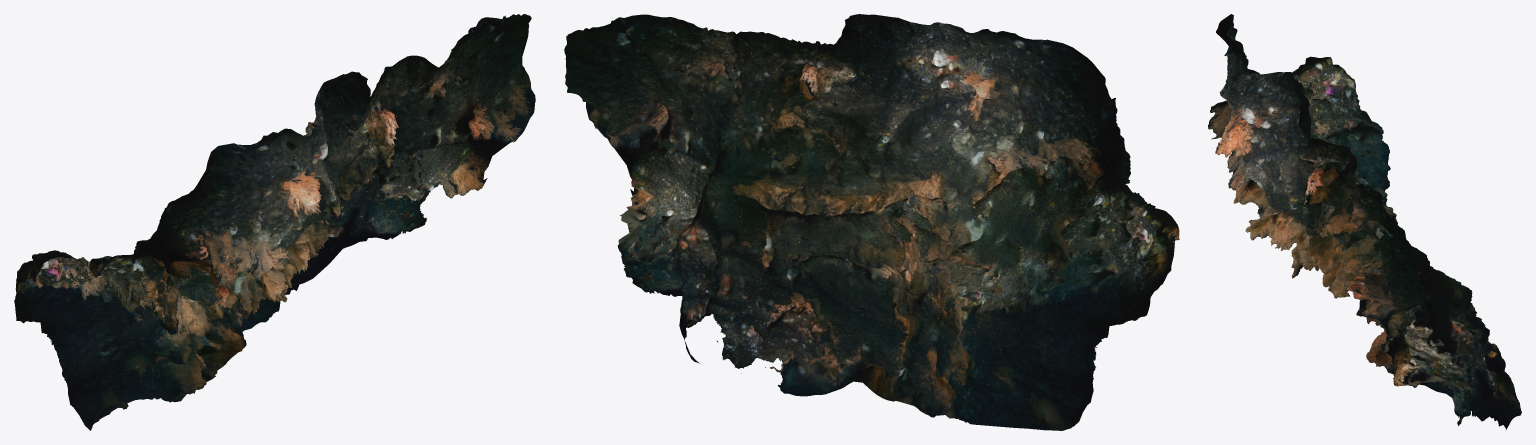
The model's file is sea_fan_corals-v1.glb.
3 renders of one model, left to right at view 1: azimuth 30°, elevation 25°; view 2: azimuth 150°, elevation 25°; view 3: azimuth 270°, elevation 25°, orthographic. The views are drawn at different scales.
Parts seen in each view (by area): view 1: Object_5, Object_2; view 2: Object_5, Object_2; view 3: Object_5, Object_2.
Boxes of the visible parts, left/top/right/bottom form: Object_5: left=14, top=16, right=505, bottom=430; Object_2: left=41, top=14, right=535, bottom=419; Object_5: left=614, top=14, right=1179, bottom=430; Object_2: left=564, top=14, right=1150, bottom=430; Object_5: left=1215, top=14, right=1521, bottom=429; Object_2: left=1208, top=40, right=1511, bottom=425.
Size of the model in its own units: 12.05 by 6.89 by 5.55.
Materials: 2 (2 with a texture image).
